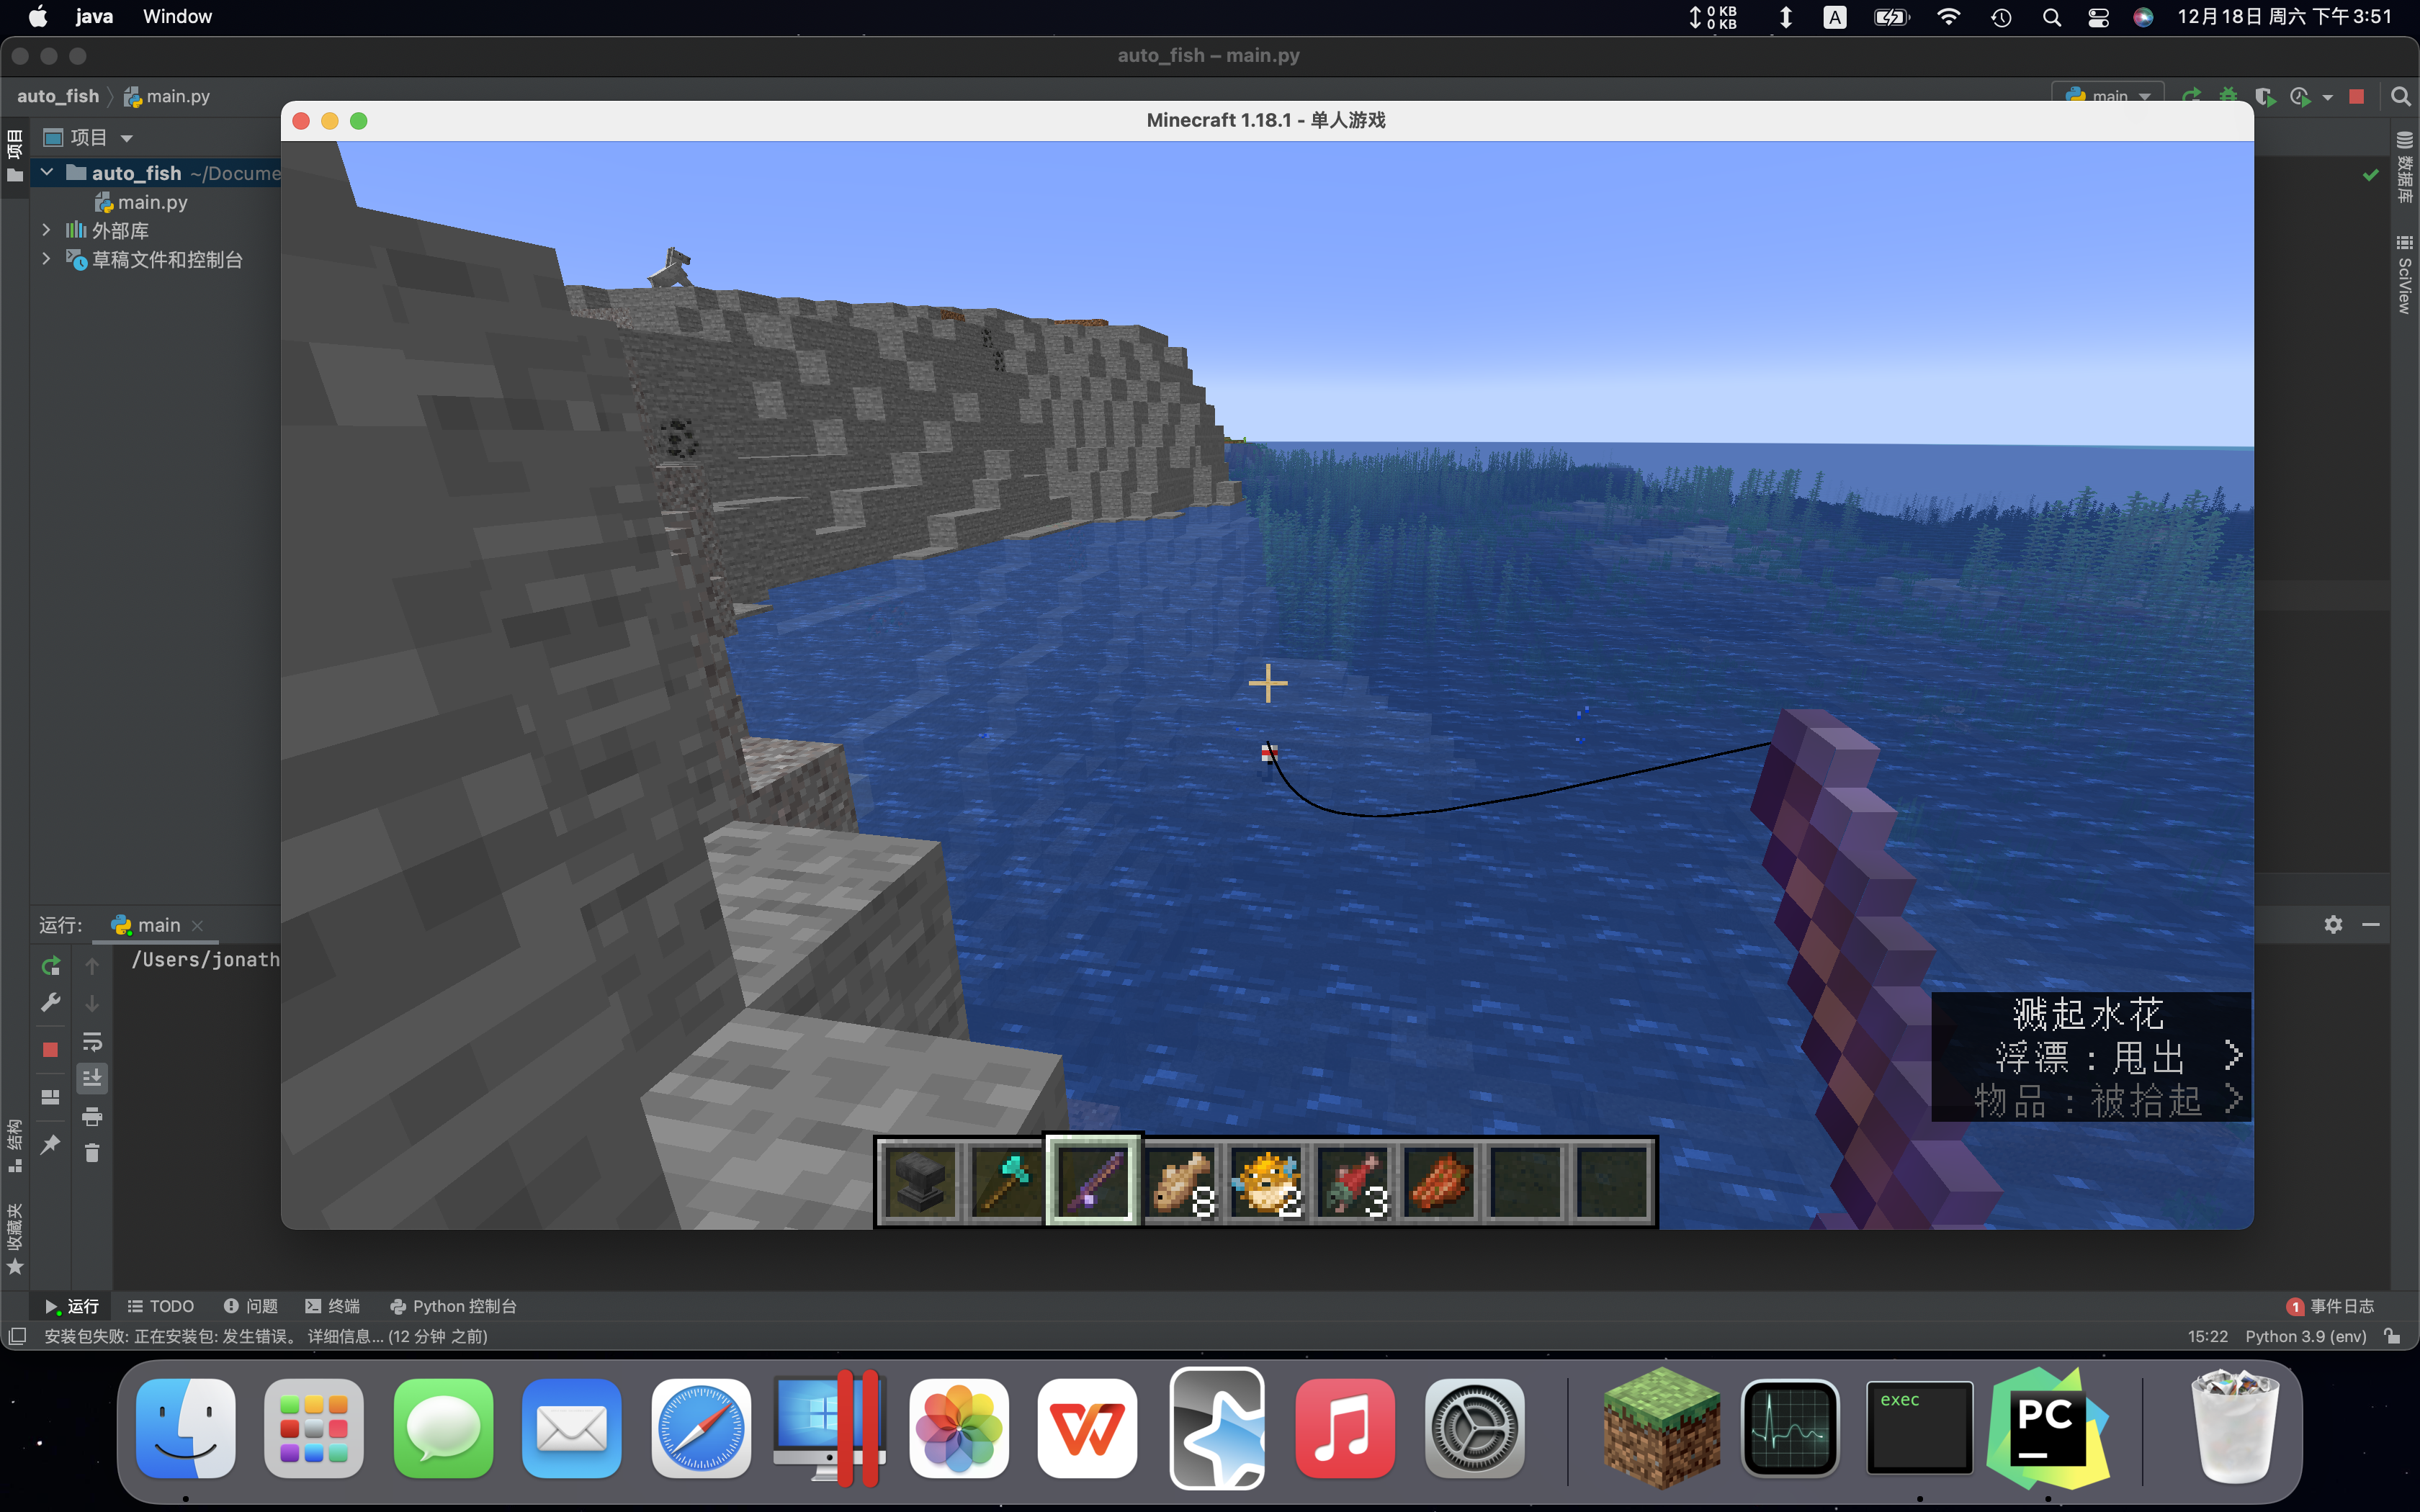inf: (1932, 991, 2254, 1125)
